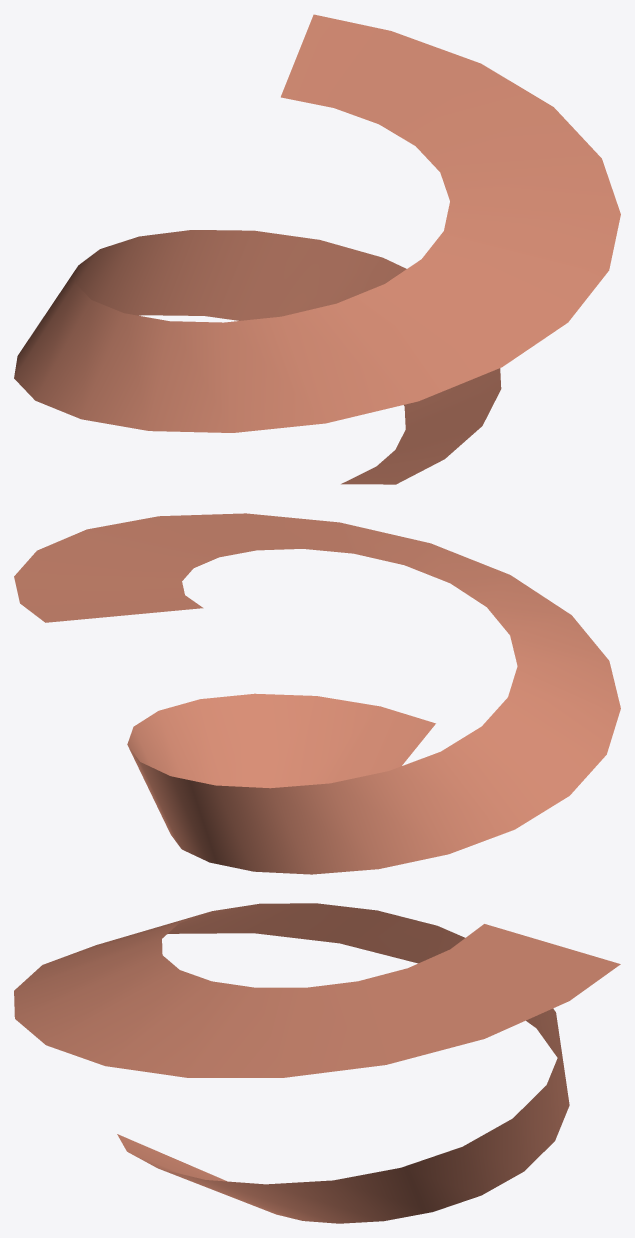
The model's file is spiral_fat.fbx.
3 views of the same model, one above another, from view 1: azimuth 30°, elevation 25°; view 2: azimuth 150°, elevation 25°; view 3: azimuth 270°, elevation 25° (orthographic). The views are drawn at different scales.
Parts seen in each view (by area): view 1: spiral_fat; view 2: spiral_fat; view 3: spiral_fat.
Boxes of the visible parts, left/top/right/bottom form: spiral_fat: left=14, top=14, right=620, bottom=484; spiral_fat: left=14, top=513, right=620, bottom=874; spiral_fat: left=14, top=903, right=620, bottom=1223.
Bounding box in the file's own units: 99.33 × 52.63 × 94.96.
